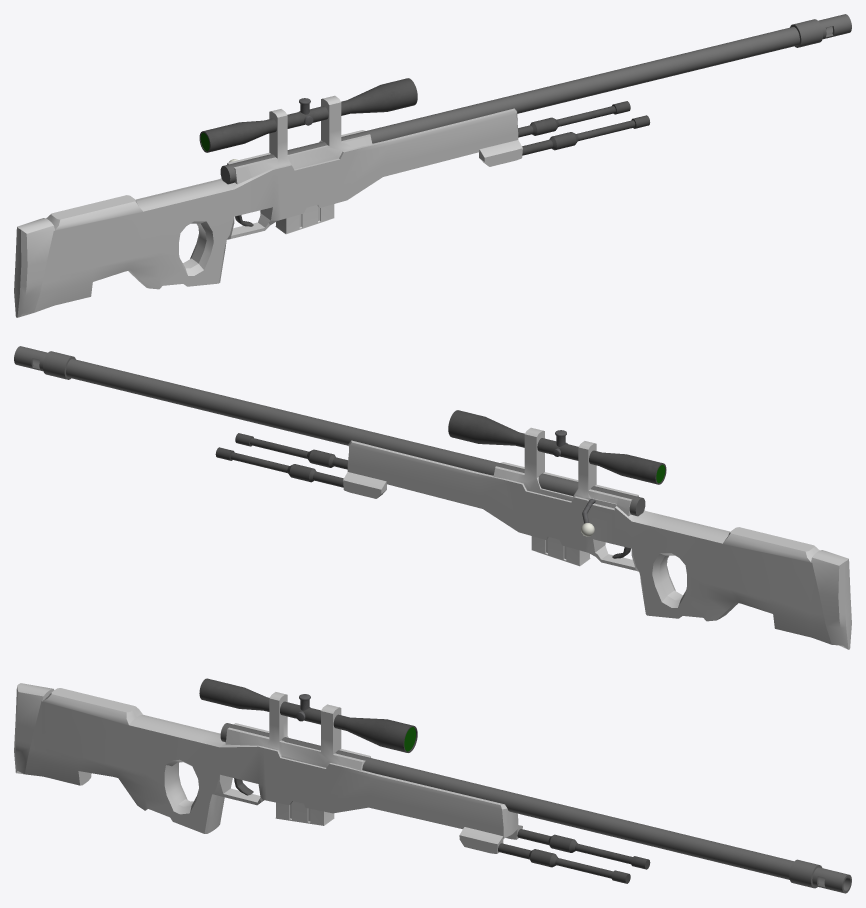
File: AWP_Final.fbx
The picture shows the model from 3 angles, top to bottom: view 1: azimuth 30°, elevation 25°; view 2: azimuth 150°, elevation 25°; view 3: azimuth 330°, elevation 25°; orthographic projection.
Visible parts, largest first — view 1: AWP.Base, AWP.Cano, AWP.Mira, AWP.Apoio, AWP.Peso, AWP.Municao; view 2: AWP.Base, AWP.Cano, AWP.Mira, AWP.Apoio, AWP.Peso, AWP.Municao; view 3: AWP.Base, AWP.Cano, AWP.Mira, AWP.Peso, AWP.Apoio, AWP.Municao.
Boxes of the visible parts, <box> form: AWP.Base: <box>34,95,522,312</box>; AWP.Cano: <box>220,14,851,184</box>; AWP.Mira: <box>199,78,417,152</box>; AWP.Apoio: <box>14,218,54,317</box>; AWP.Peso: <box>518,101,650,155</box>; AWP.Municao: <box>275,204,334,234</box>; AWP.Base: <box>343,427,831,644</box>; AWP.Cano: <box>14,346,645,516</box>; AWP.Mira: <box>448,410,666,484</box>; AWP.Apoio: <box>811,550,851,649</box>; AWP.Peso: <box>215,433,347,487</box>; AWP.Municao: <box>531,536,590,566</box>; AWP.Base: <box>25,688,522,853</box>; AWP.Cano: <box>220,723,851,893</box>; AWP.Mira: <box>199,678,417,752</box>; AWP.Peso: <box>498,829,650,883</box>; AWP.Apoio: <box>14,683,54,774</box>; AWP.Municao: <box>275,801,334,825</box>.
Size of the model in its own units: 111 by 19.81 by 8.91.
